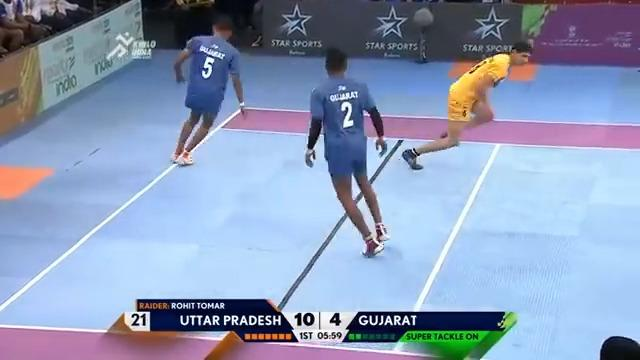Player: (303, 47, 390, 257), (169, 14, 245, 166)
Raider: (401, 39, 533, 170)
referee: (598, 334, 639, 359)
